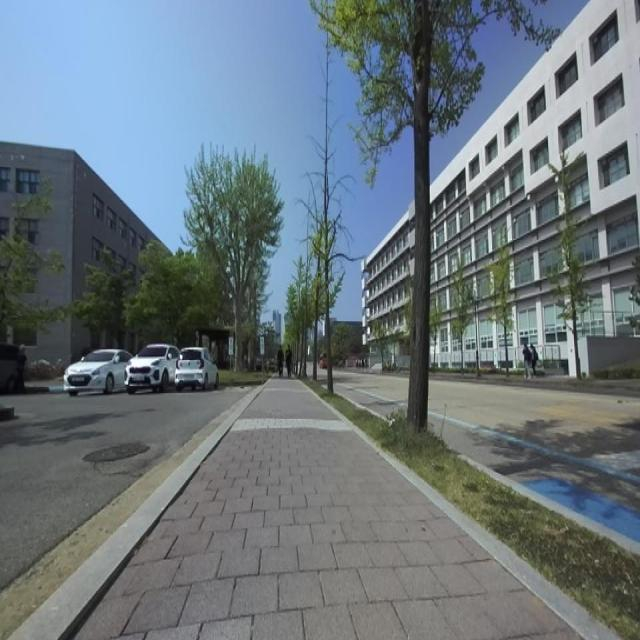sidewalk: (75, 379, 578, 639)
